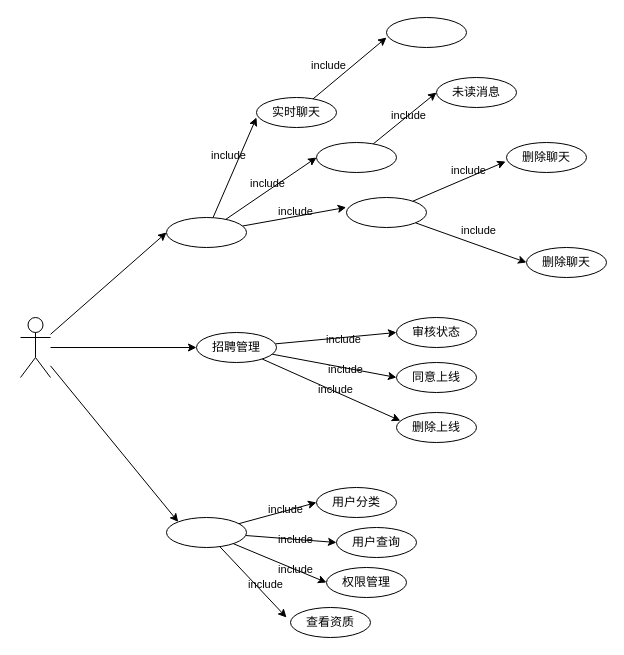
The diagram is 624 pixels wide and 655 high, and some of its shapes have lost their labels. The shapes that lost their labels are listed below. From the top down, each one's centre as x and y in pixels, then its label:
At [426,32]: "在线提示".
At [356,157]: "离线聊天".
At [206,232]: "客服反馈管理".
At [386,212]: "聊天管理".
At [35,347]: "管理员".
At [206,532]: "人员管理".
